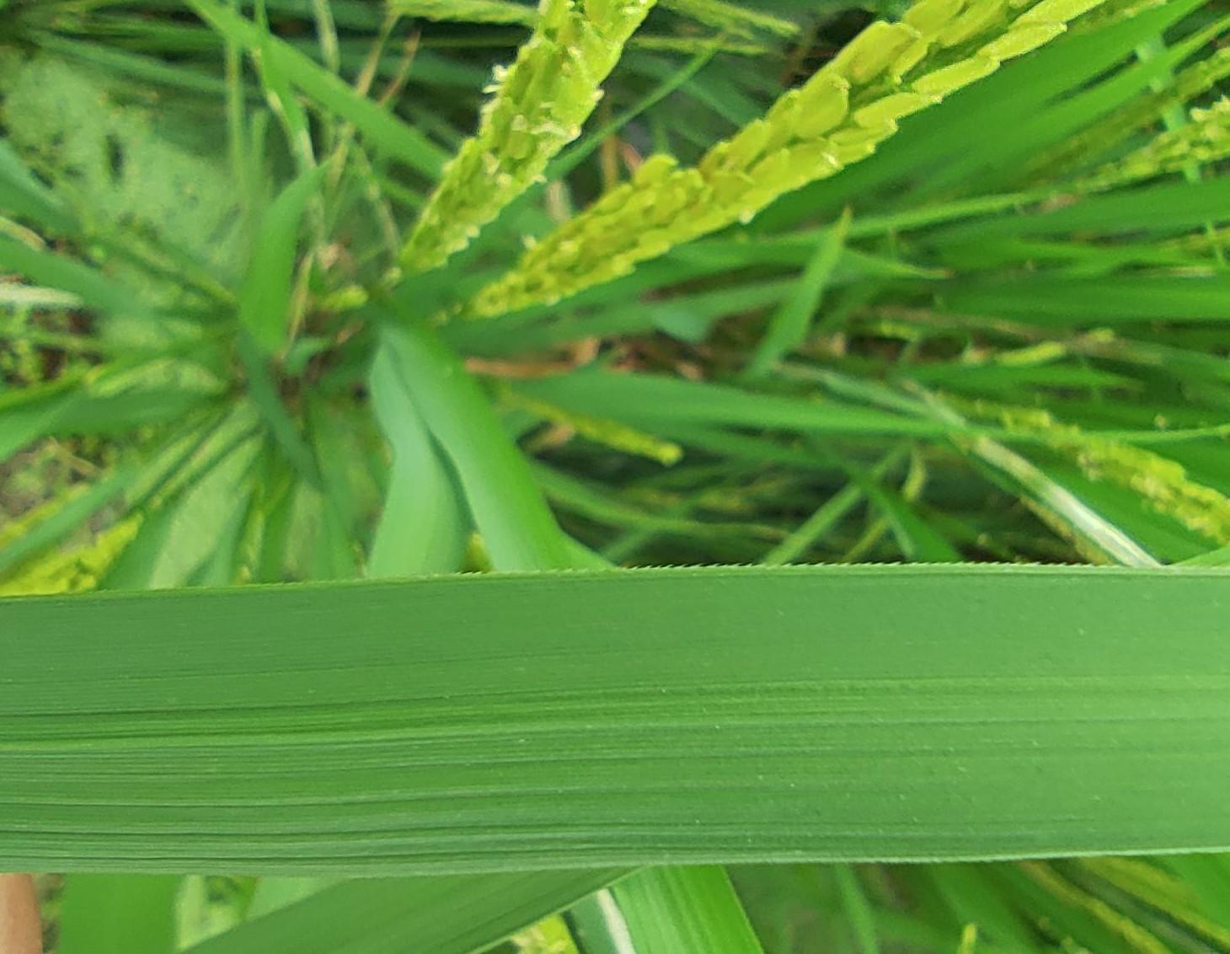Healthy: (0, 565, 1229, 875)
